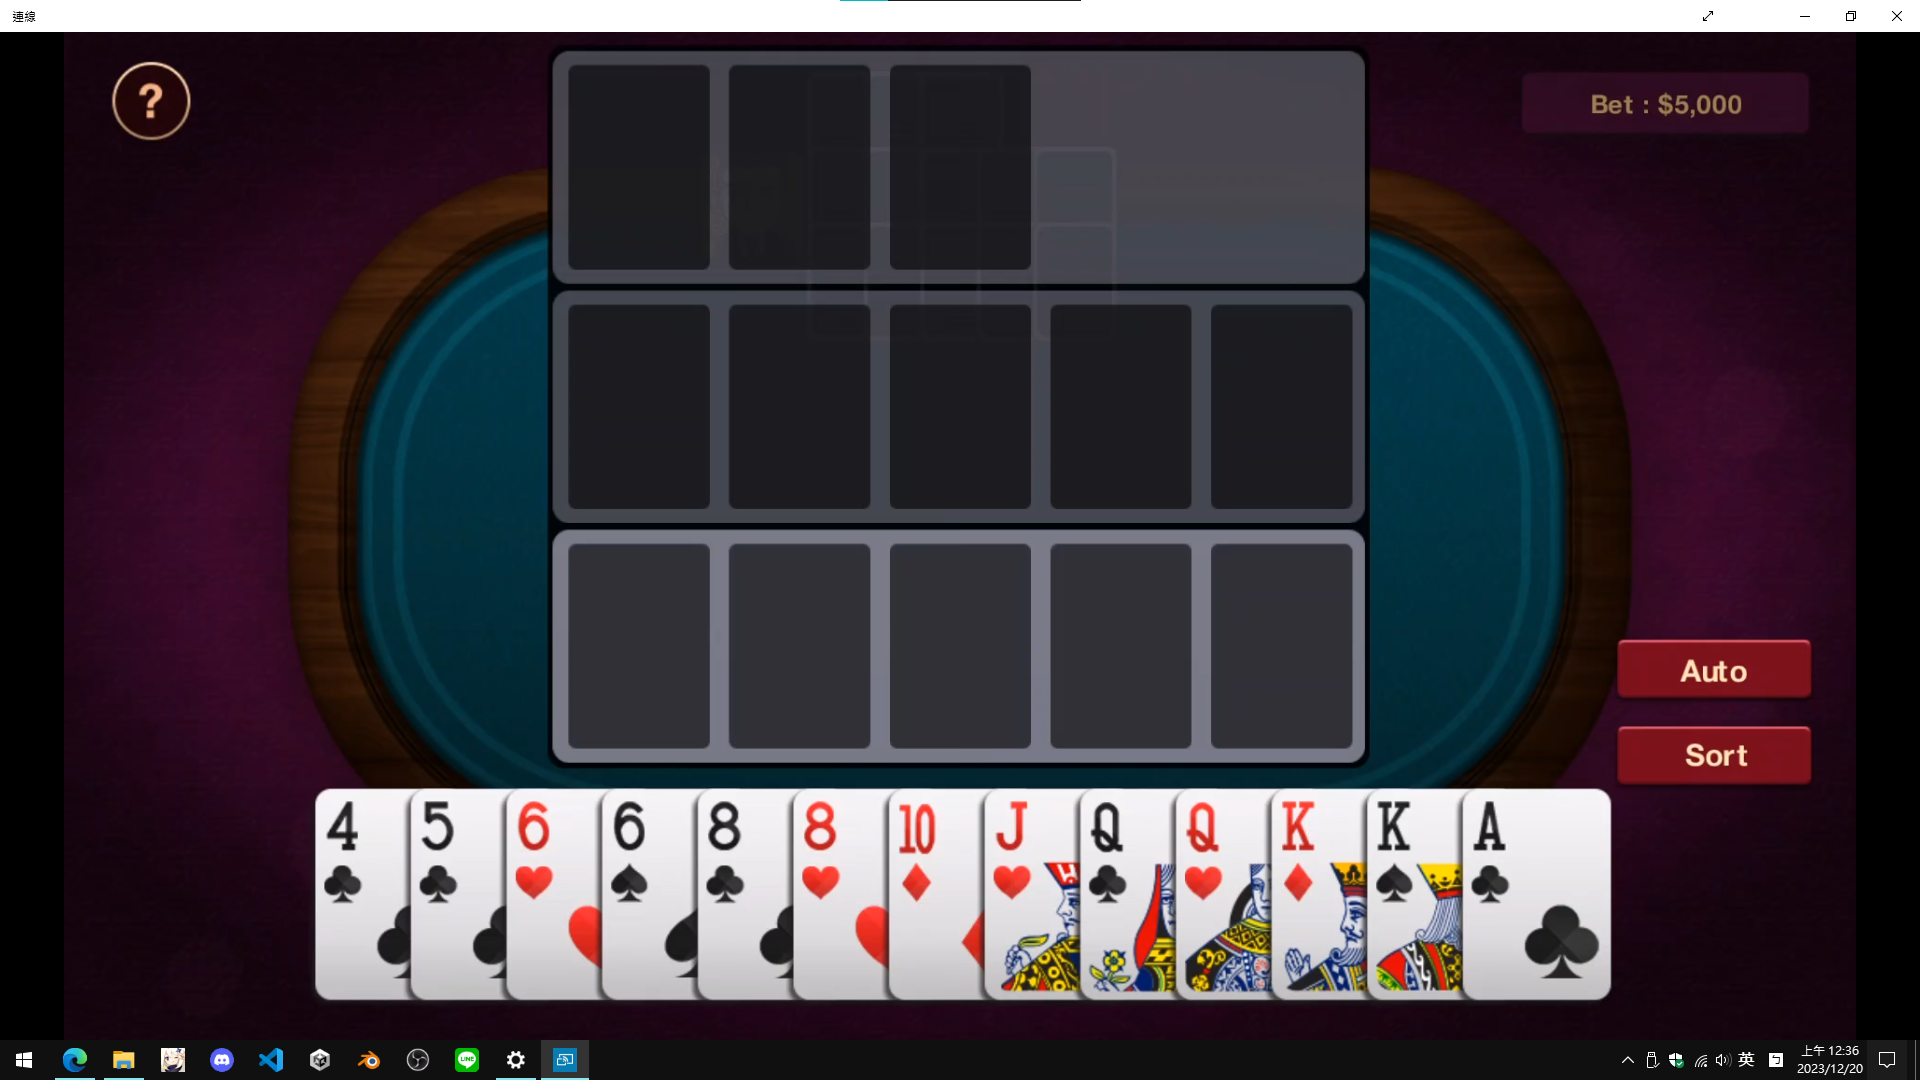10D: (894, 798, 940, 906)
4C: (320, 794, 367, 914)
5C: (417, 795, 460, 915)
6H: (512, 798, 559, 906)
6S: (607, 798, 650, 914)
8C: (703, 795, 749, 914)
8H: (798, 798, 840, 906)
AC: (1469, 799, 1513, 914)
JH: (992, 799, 1035, 903)
KD: (1278, 798, 1323, 906)
KS: (1370, 799, 1419, 907)
QC: (1087, 798, 1130, 907)
QH: (1180, 798, 1226, 906)
